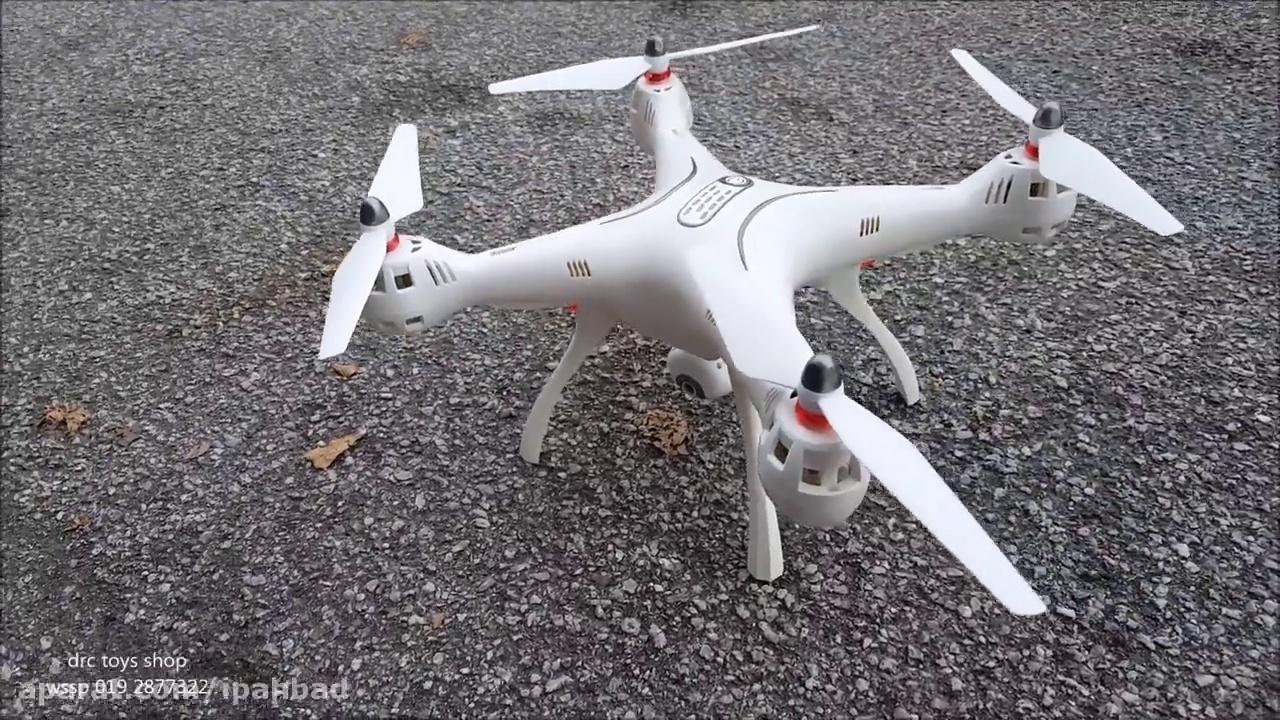drone: (310, 14, 1193, 622)
